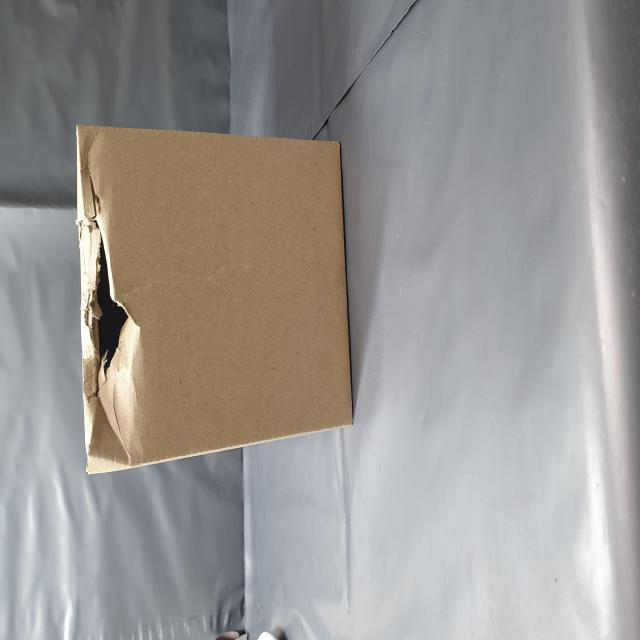damaged: (102, 147, 274, 227)
